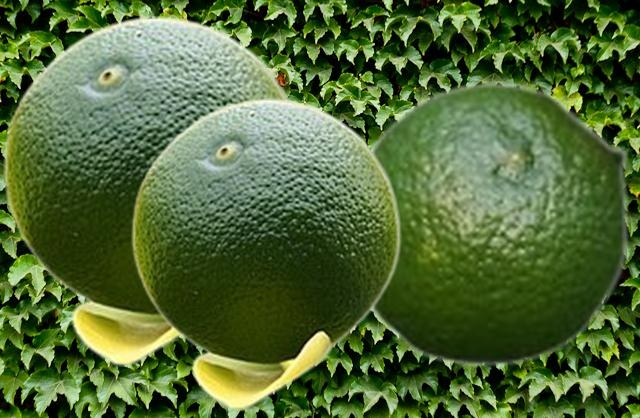calamansi: (3, 16, 294, 365), (131, 98, 400, 409), (368, 81, 630, 367)
